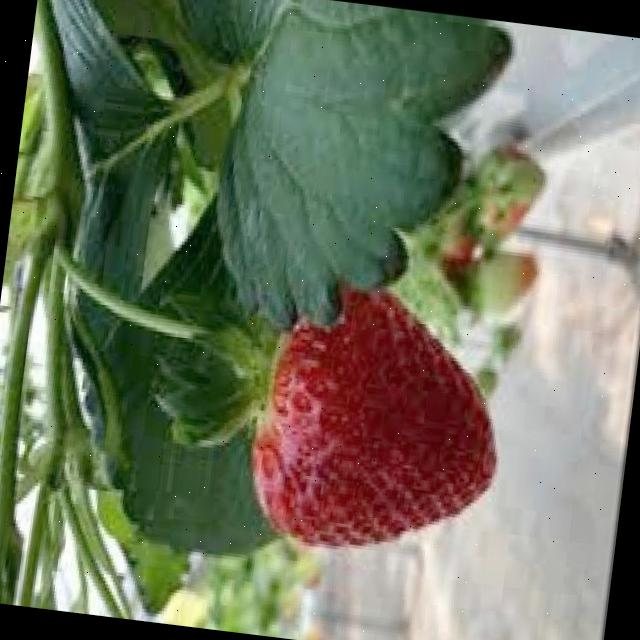strawberry: (243, 273, 519, 566)
